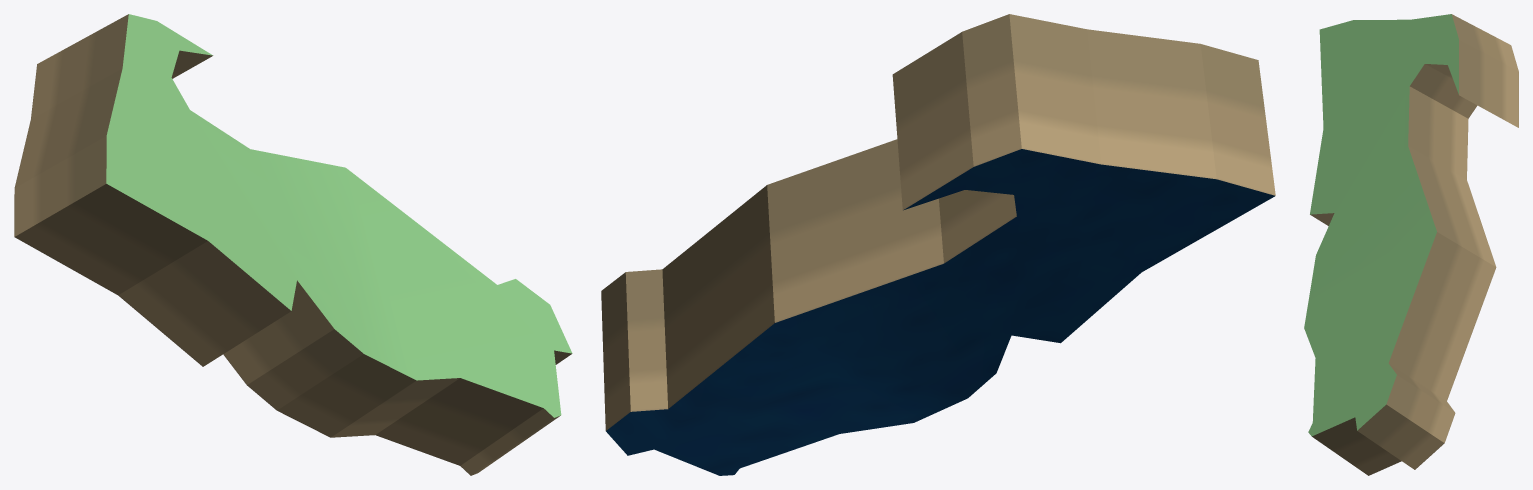
File: 061f_Turkey.glb
3 renders of one model, left to right at view 1: azimuth 30°, elevation 25°; view 2: azimuth 150°, elevation 25°; view 3: azimuth 270°, elevation 25°, orthographic. The views are drawn at different scales.
Visible parts, largest first — view 1: part_0; view 2: part_0; view 3: part_0.
Boxes of the visible parts, x1,y1,x2,y2 form: part_0: [14, 14, 572, 475]; part_0: [601, 14, 1275, 475]; part_0: [1304, 14, 1518, 475].
Bounding box in the file's own units: 1.01 × 0.863 × 0.4698.
Materials: 1 (1 with a texture image).
